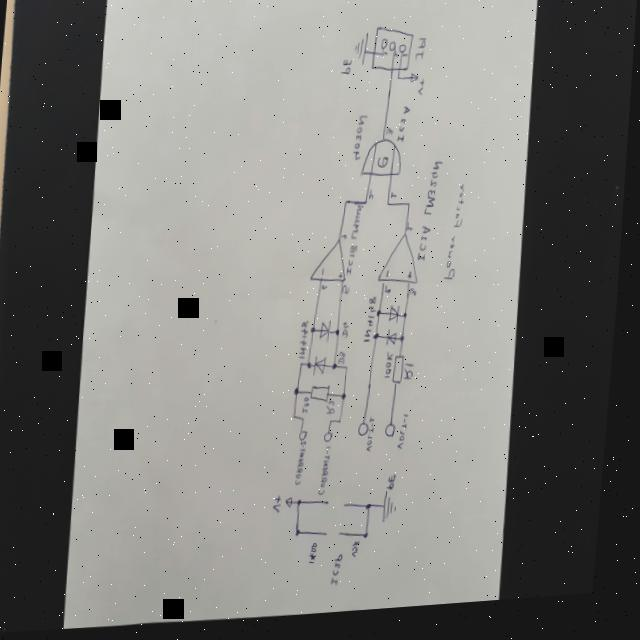diode: (323, 325, 336, 350), (316, 361, 331, 381), (392, 310, 404, 331), (390, 335, 402, 354)
ground: (353, 38, 370, 73), (387, 497, 404, 531)
junction: (371, 507, 379, 518), (298, 391, 305, 402), (376, 338, 383, 348), (379, 315, 386, 325), (369, 537, 376, 546), (335, 367, 342, 376), (302, 503, 309, 512), (406, 318, 412, 327), (345, 398, 351, 407), (388, 206, 394, 215), (365, 203, 371, 212), (408, 207, 414, 215), (302, 534, 308, 542), (306, 420, 312, 428), (346, 203, 351, 212), (403, 342, 409, 349), (396, 81, 402, 88), (342, 424, 348, 431), (314, 332, 320, 339), (348, 370, 353, 378), (340, 333, 344, 342), (297, 419, 302, 425), (312, 368, 316, 374), (334, 425, 338, 429), (304, 367, 307, 371)
resistor: (395, 359, 410, 392), (315, 390, 336, 409)
source: (410, 77, 420, 90), (291, 501, 299, 513)
terminal: (369, 27, 414, 80), (389, 429, 401, 445), (363, 427, 374, 443), (303, 434, 313, 446), (328, 436, 338, 447), (344, 536, 350, 543), (348, 507, 354, 514), (330, 537, 335, 542), (332, 507, 335, 511)
text: (445, 189, 469, 288), (425, 162, 445, 225), (352, 119, 369, 167), (419, 231, 436, 271), (367, 302, 380, 350), (397, 110, 412, 149), (325, 450, 336, 501), (301, 323, 314, 366), (336, 558, 351, 594), (300, 445, 312, 490), (402, 419, 415, 458), (353, 209, 366, 247), (348, 248, 361, 283), (371, 422, 382, 458), (388, 357, 398, 385), (315, 546, 326, 570), (415, 43, 426, 67), (278, 499, 289, 519), (341, 63, 353, 81), (408, 369, 419, 387), (392, 480, 402, 499), (330, 403, 341, 420), (306, 401, 315, 420), (417, 84, 426, 103), (345, 326, 354, 344), (358, 546, 367, 564), (342, 356, 351, 371), (345, 289, 353, 301), (343, 237, 351, 248), (387, 132, 395, 143), (391, 197, 399, 208), (408, 228, 416, 238), (370, 196, 377, 207), (413, 294, 420, 304), (324, 288, 331, 297), (388, 291, 395, 300), (410, 278, 417, 287), (323, 272, 329, 282), (340, 278, 347, 285), (388, 277, 394, 284)
